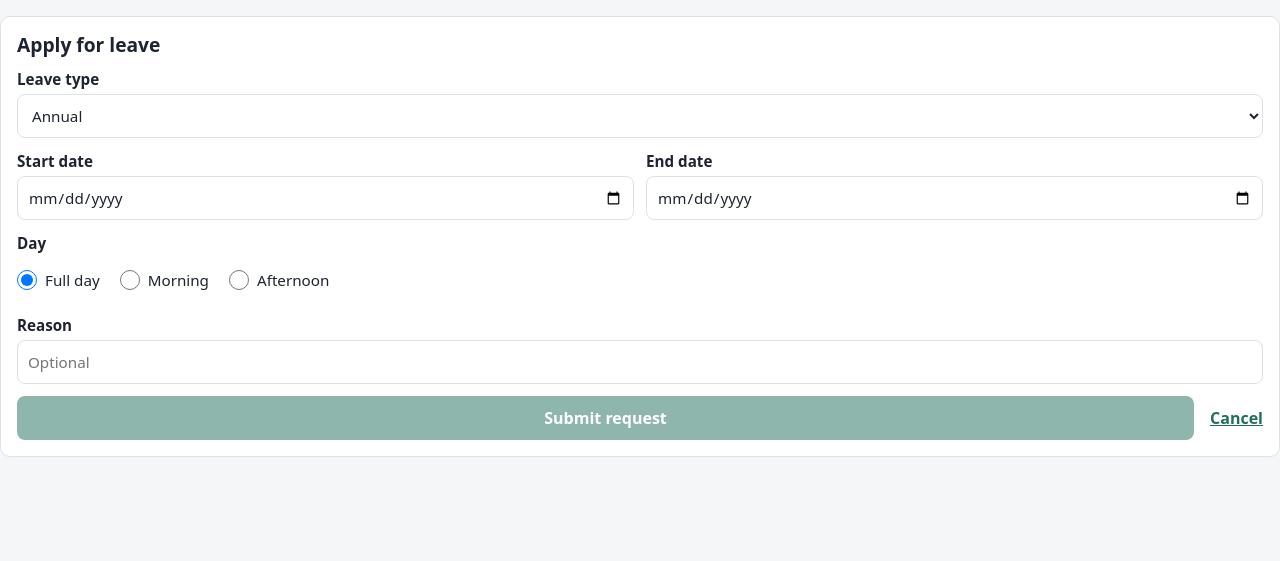
Test: ApplyLeaveForm › shows the server's error message when the API refuses (409)
Type "2026-10-05" into the date field labelled "Start date" at (326, 198), box [17,176,634,220]
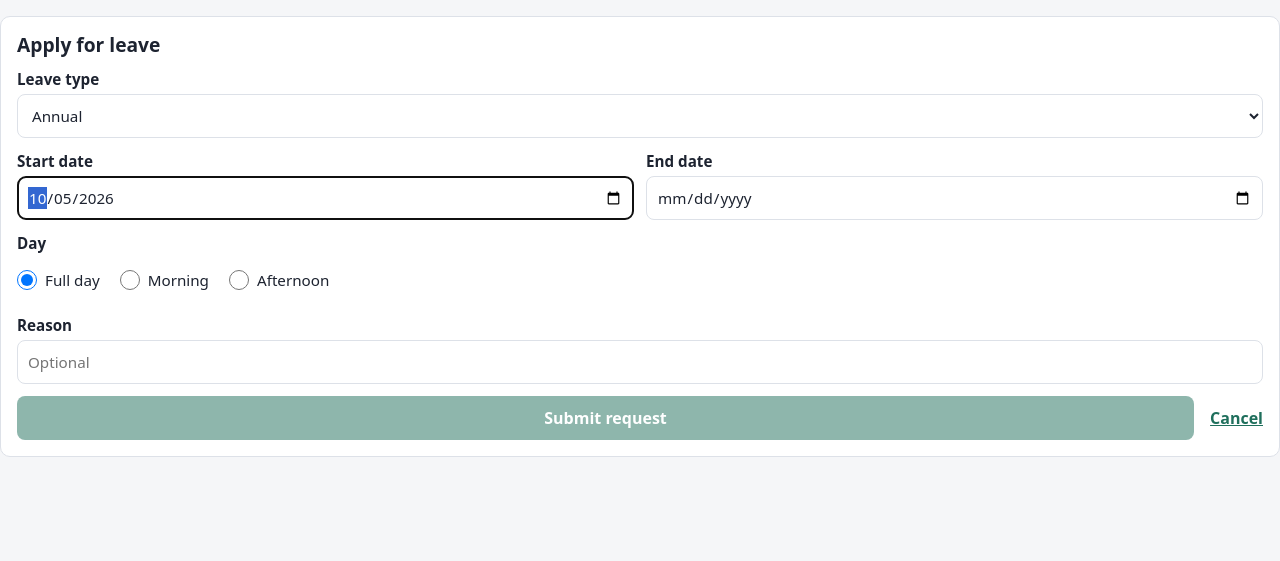
Type "2026-10-07" into the date field labelled "End date" at (954, 198), box [646,176,1263,220]
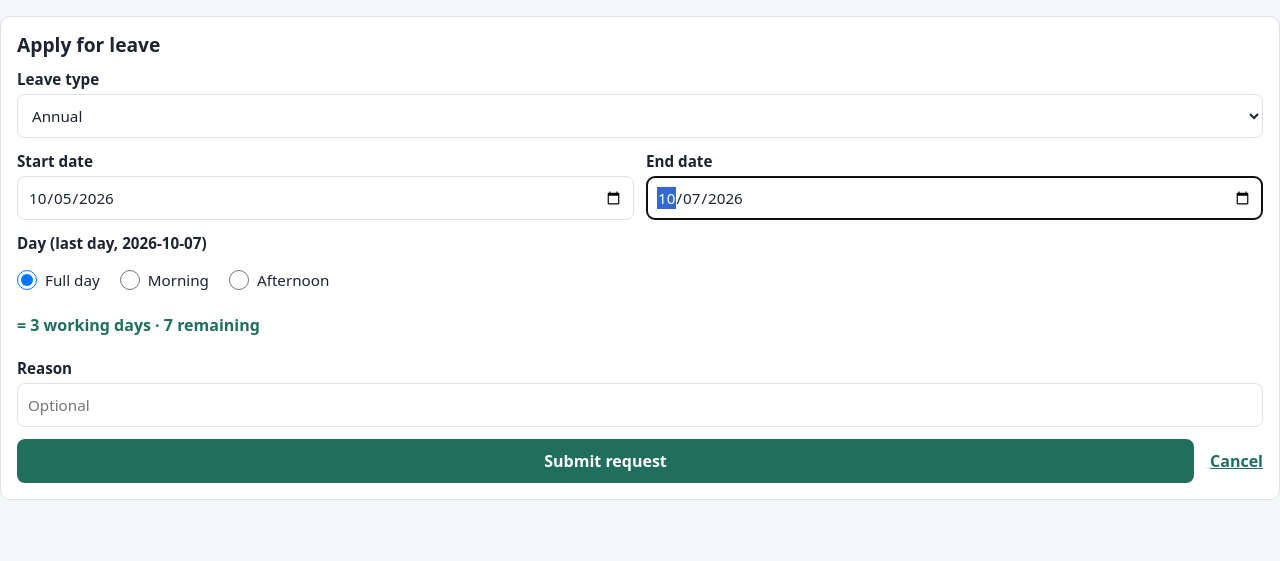
Click the button "Submit request" at (606, 461), box [17,439,1194,483]
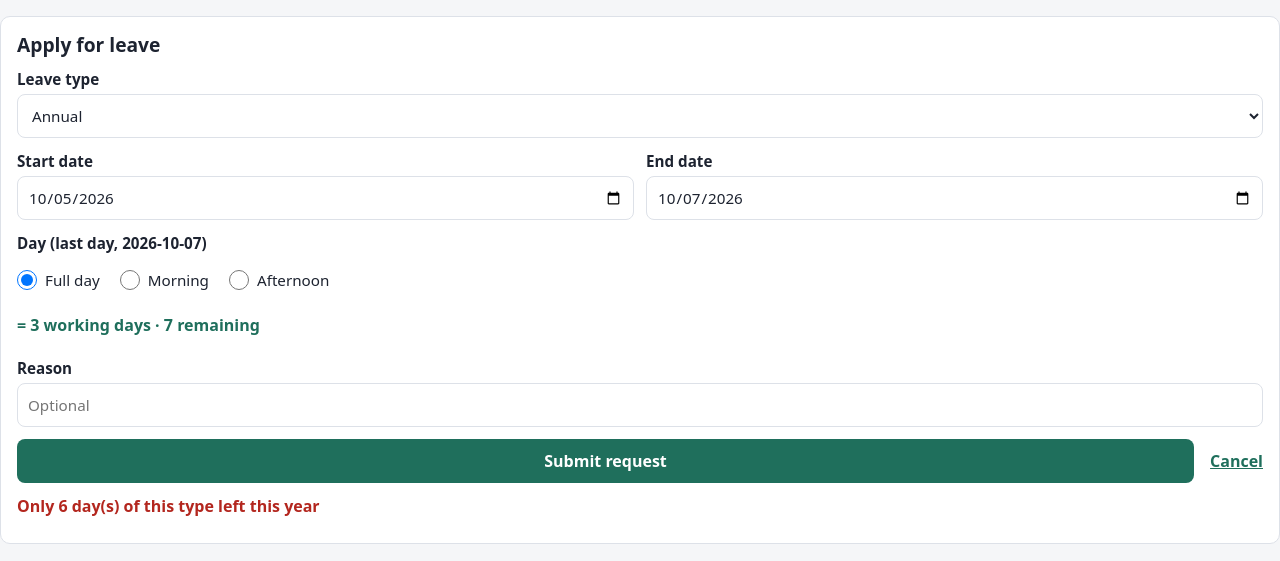
Now the message reads "Only 6 day(s) of this type left this year", box [17,495,320,517]
